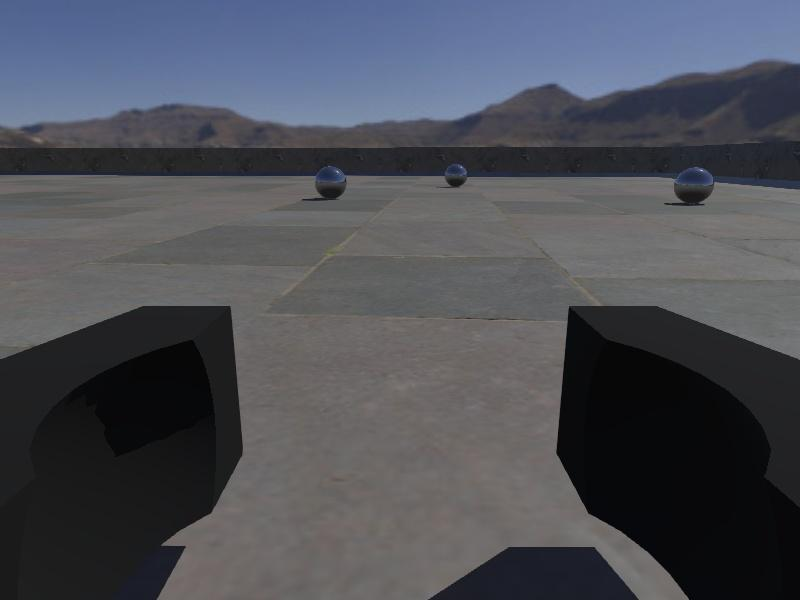steel ball: (673, 165, 715, 205), (314, 165, 347, 200), (444, 163, 468, 187)
